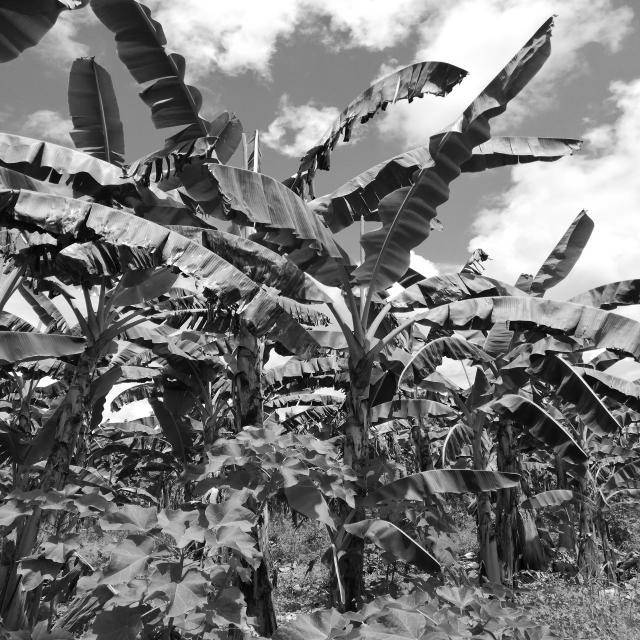Banana-plant: (0, 307, 125, 640), (205, 286, 277, 640), (319, 306, 402, 606)
